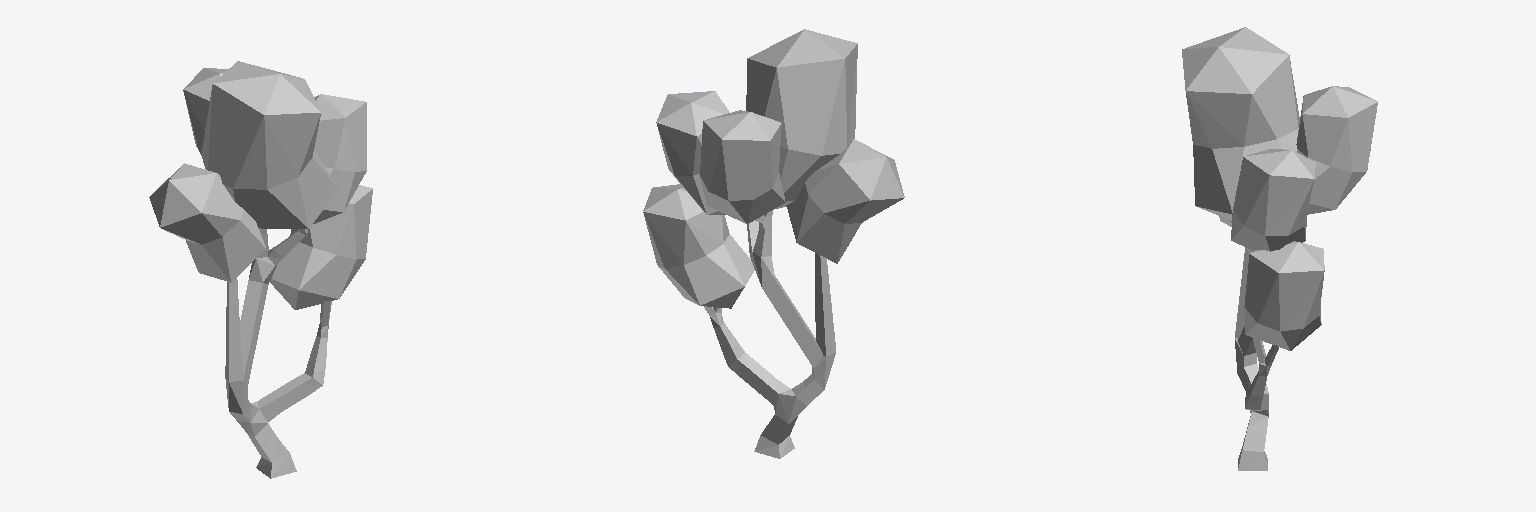
The model's file is Tree1.obj.
3 renders of one model, left to right at view 1: azimuth 30°, elevation 25°; view 2: azimuth 150°, elevation 25°; view 3: azimuth 270°, elevation 25°, orthographic.
Parts seen in each view (by area): view 1: Icosphere.027, Cube.006, Icosphere.026, Icosphere.028, Icosphere.030, Icosphere.029; view 2: Icosphere.027, Cube.006, Icosphere.028, Icosphere.026, Icosphere.029, Icosphere.030; view 3: Icosphere.027, Icosphere.029, Icosphere.028, Icosphere.030, Cube.006.
Boxes of the visible parts, x1=… form: Icosphere.027: x1=201, y1=61, x2=337, y2=228; Cube.006: x1=225, y1=228, x2=331, y2=478; Icosphere.026: x1=149, y1=163, x2=265, y2=282; Icosphere.028: x1=270, y1=185, x2=372, y2=309; Icosphere.030: x1=313, y1=94, x2=366, y2=223; Icosphere.029: x1=183, y1=68, x2=227, y2=153; Icosphere.027: x1=746, y1=29, x2=857, y2=208; Cube.006: x1=704, y1=210, x2=835, y2=458; Icosphere.028: x1=643, y1=184, x2=754, y2=308; Icosphere.026: x1=786, y1=139, x2=904, y2=263; Icosphere.029: x1=700, y1=110, x2=785, y2=223; Icosphere.030: x1=656, y1=91, x2=729, y2=214; Icosphere.027: x1=1182, y1=27, x2=1299, y2=220; Icosphere.029: x1=1296, y1=86, x2=1377, y2=214; Icosphere.028: x1=1244, y1=241, x2=1324, y2=350; Icosphere.030: x1=1231, y1=149, x2=1315, y2=251; Cube.006: x1=1235, y1=247, x2=1278, y2=470.
Size of the model in its own units: 2.77 by 4.69 by 2.02.